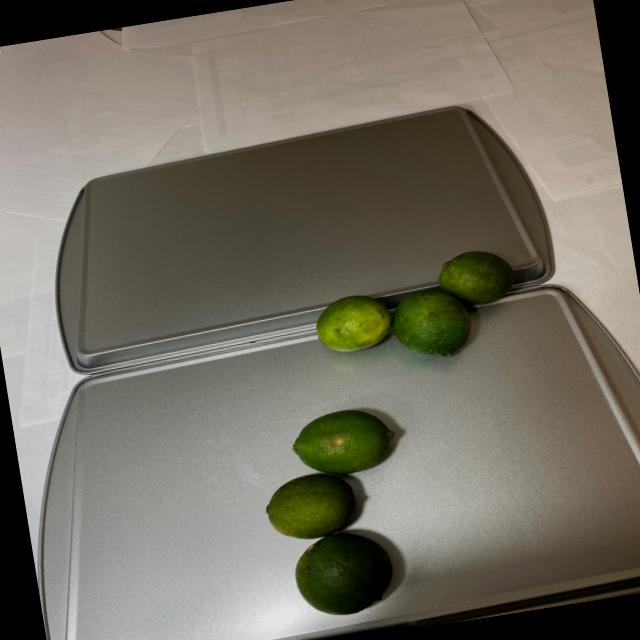lemon: (237, 388, 432, 628), (298, 244, 534, 382)
